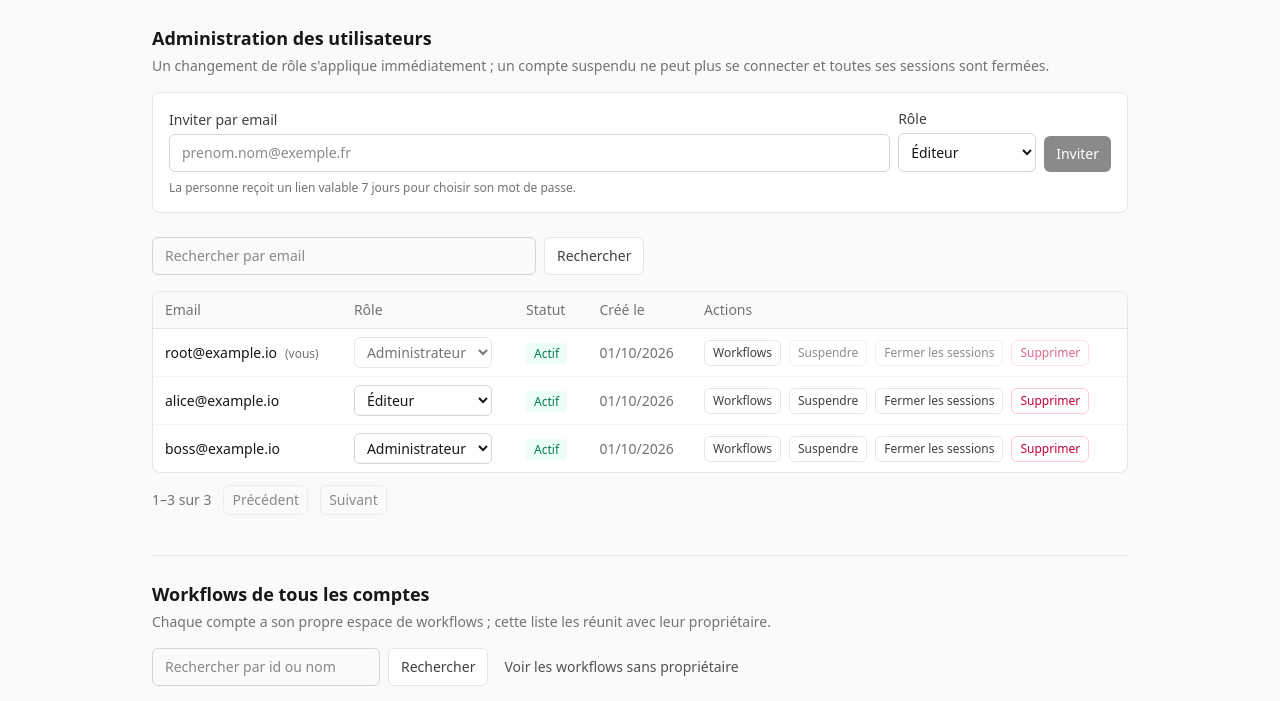
Test: <AdminPanel /> › ferme les sessions d'un compte après confirmation
The width and height of the screenshot is (1280, 701).
Check: the row that starts with "alice@example.io" is shown, box [153, 376, 1127, 424]
What coordinates should you click on to do the following:
click the button "Fermer les sessions" in the row of "alice@example.io"
I would click on:
 (939, 400)
Its box is [875, 388, 1004, 414].
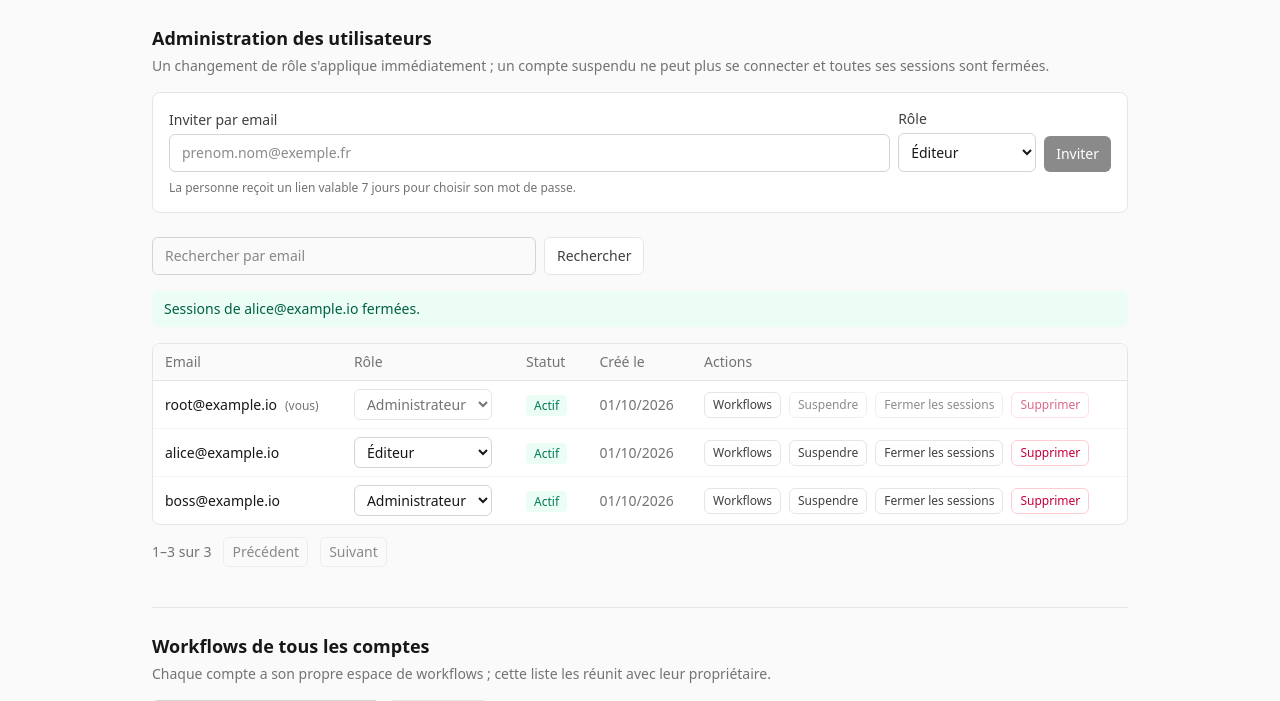
Check: the message shows "Sessions de alice@example.io fermées", box [164, 299, 420, 318]
